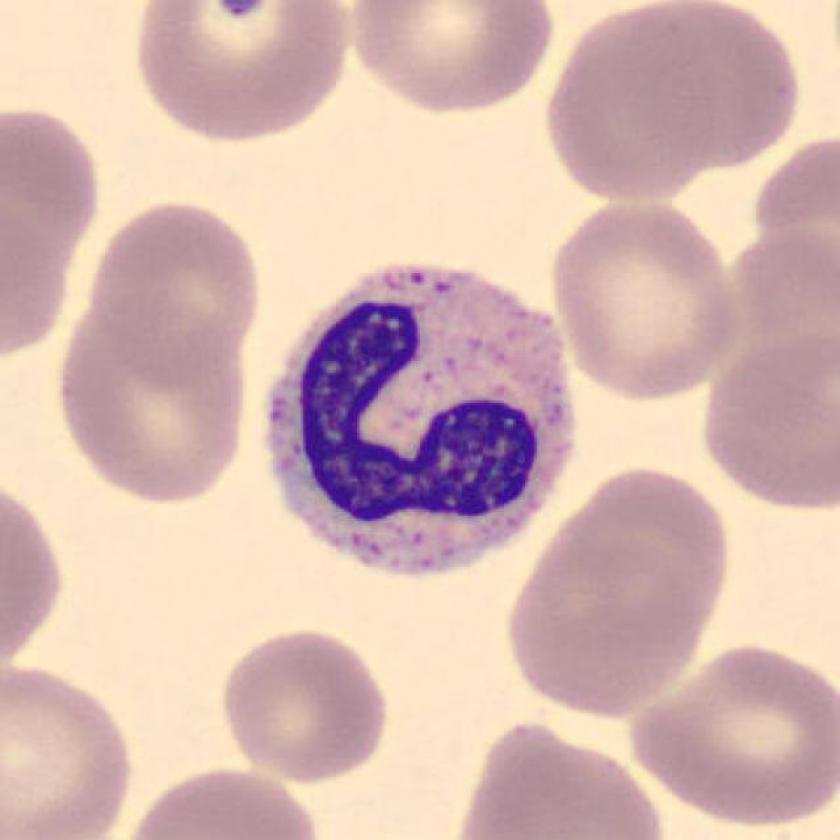neutrophil: (271, 262, 580, 577)
